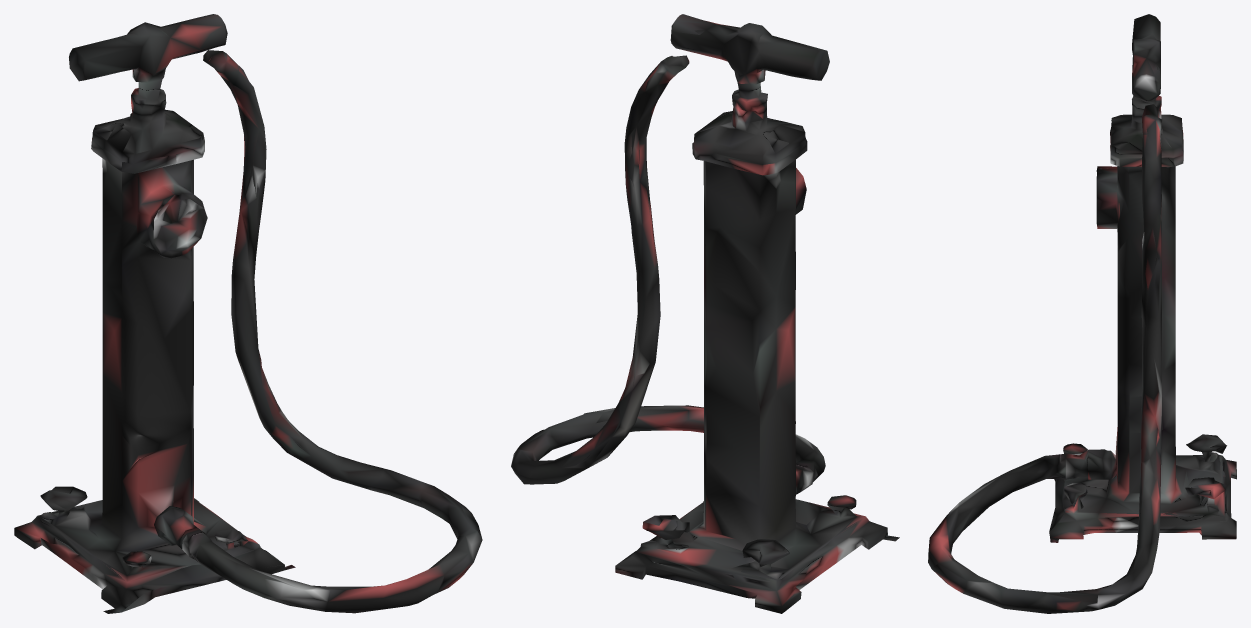
File: inflador.glb
3 renders of one model, left to right at view 1: azimuth 30°, elevation 25°; view 2: azimuth 150°, elevation 25°; view 3: azimuth 270°, elevation 25°, orthographic. The views are drawn at different scales.
Bounding box in the file's own units: 1.37 × 1.9 × 1.14.
